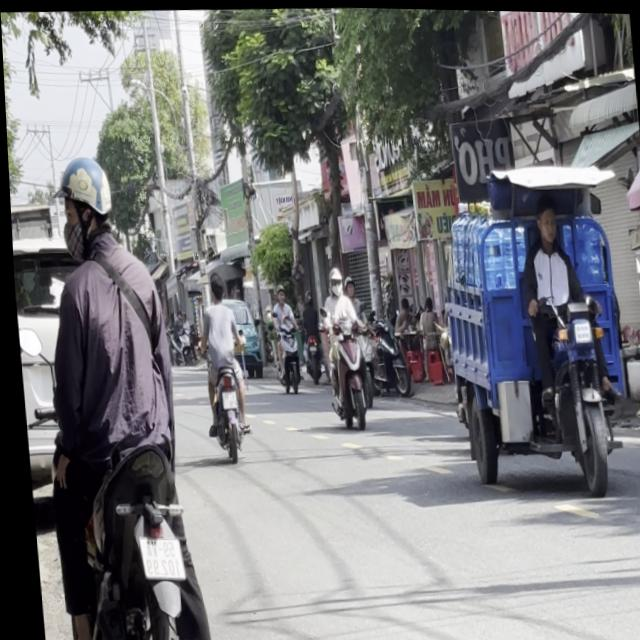helmet: (52, 151, 114, 251), (325, 263, 341, 292)
licenseplate: (7, 143, 208, 640), (426, 150, 636, 503), (189, 269, 250, 460), (312, 262, 370, 428)
motorcyclist: (531, 202, 557, 247), (204, 270, 222, 301)
nohelmet: (134, 534, 177, 577), (216, 388, 232, 407)
